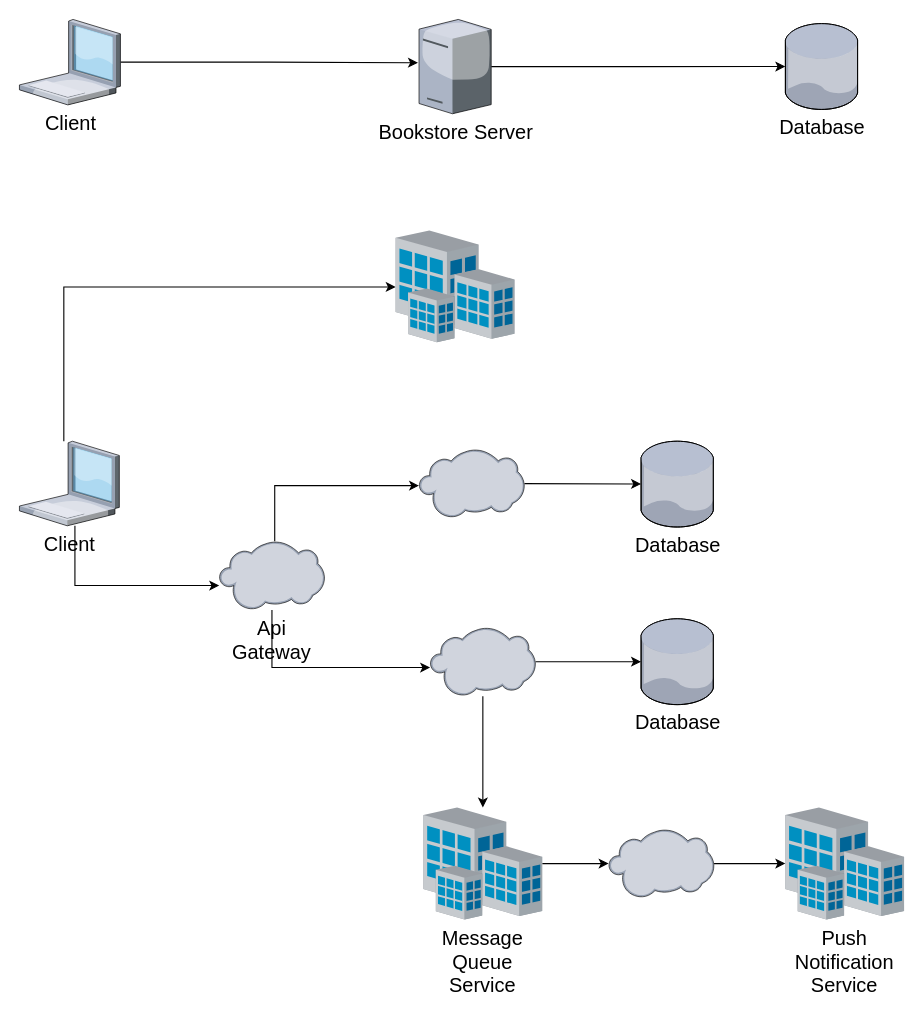
Image size: 922x1018. Some labels were removed from this diagram. Each missing label, with the centre of its shape:
"Authentication Service" goes at (454,286).
"Processor Function" goes at (661,863).
"Purchase Function" goes at (482,661).
"Search Function" goes at (471,483).
